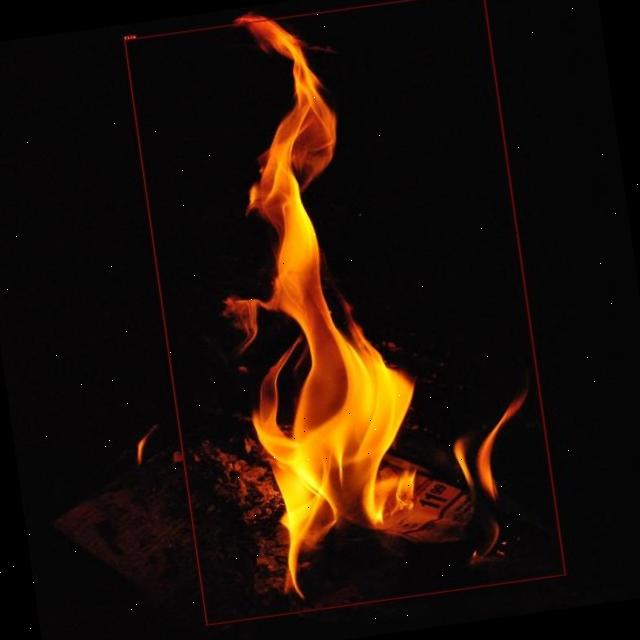fire: (124, 0, 566, 626)
